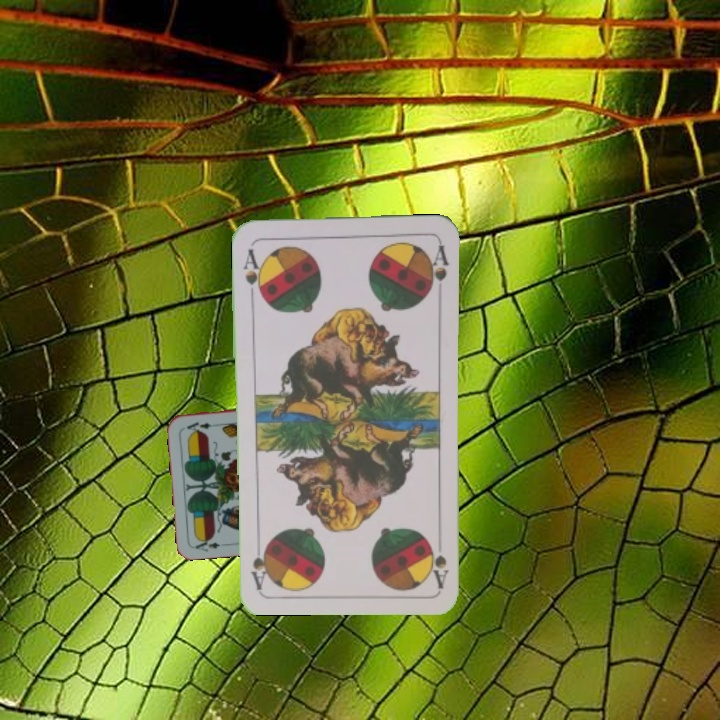EA: (191, 534, 231, 554)
SA: (425, 535, 452, 588), (239, 245, 265, 299)
